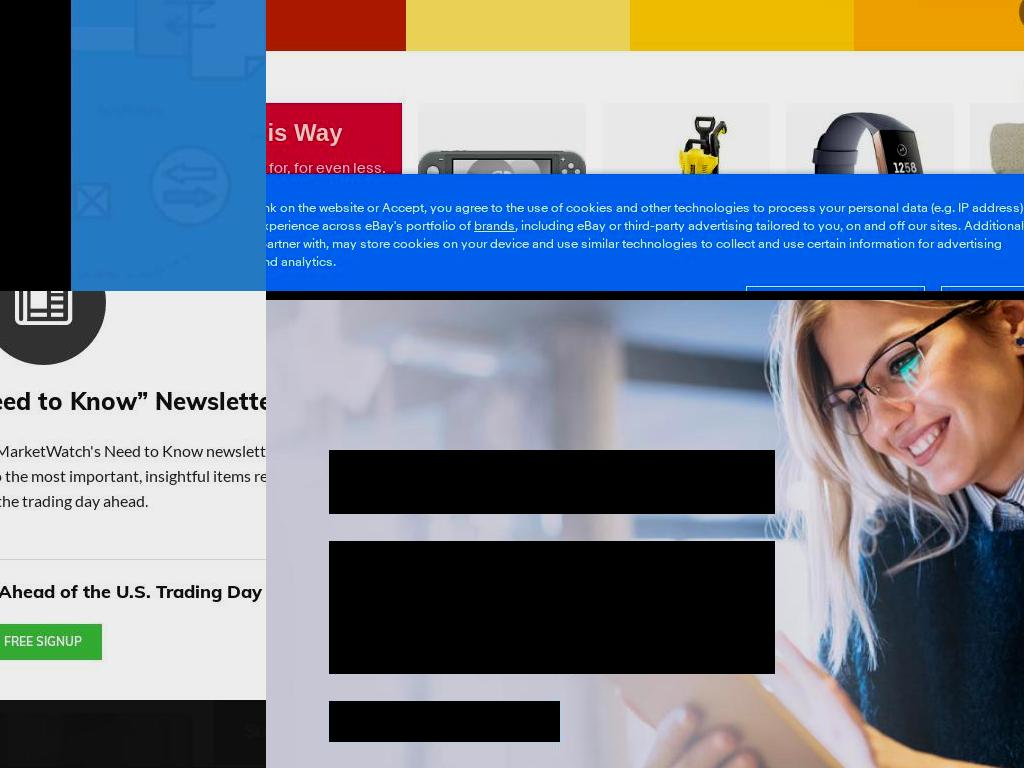button: (601, 103, 770, 291), (785, 103, 954, 291), (418, 103, 586, 291), (969, 103, 1024, 291), (329, 701, 560, 742), (0, 623, 102, 660), (123, 291, 212, 303), (34, 291, 122, 303)
heading: (0, 515, 190, 703), (329, 450, 775, 514), (0, 384, 266, 418), (0, 579, 266, 604), (266, 119, 343, 146)
iframe: (0, 323, 266, 413)
image: (417, 112, 586, 262), (785, 112, 954, 262), (601, 114, 770, 260), (0, 0, 71, 291), (969, 102, 1024, 271), (0, 291, 106, 365), (329, 701, 406, 742), (406, 701, 483, 742), (483, 701, 560, 742)
link: (0, 463, 53, 478), (163, 463, 209, 478), (474, 217, 515, 233), (221, 353, 266, 367), (221, 400, 266, 414), (221, 447, 266, 461), (221, 540, 266, 554), (221, 587, 266, 601), (221, 307, 266, 320), (221, 494, 266, 507), (223, 463, 261, 478), (67, 463, 102, 478), (116, 463, 149, 478)
text: (329, 541, 775, 674), (266, 199, 1024, 233), (266, 235, 1002, 269), (0, 437, 266, 513), (515, 217, 1024, 233), (345, 714, 544, 729), (266, 159, 386, 178), (601, 286, 770, 291), (785, 286, 954, 291), (418, 286, 586, 291), (13, 291, 33, 301)
